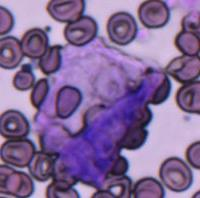D: (60, 123, 118, 188)
